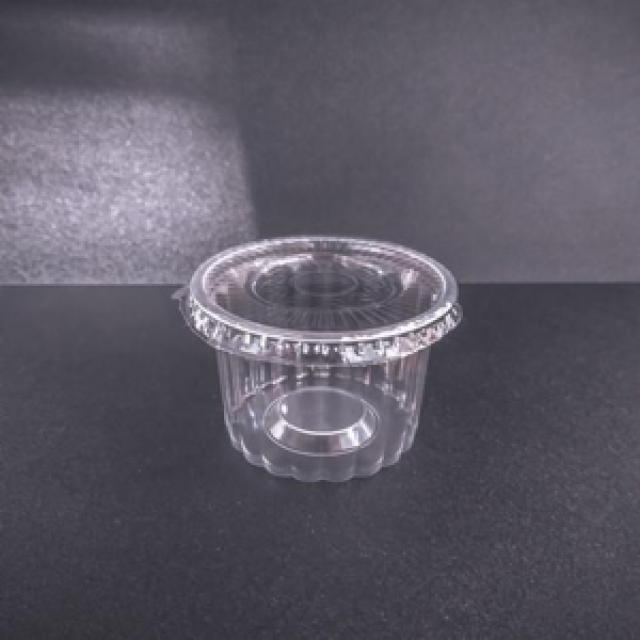plastic cup: (166, 224, 468, 493)
